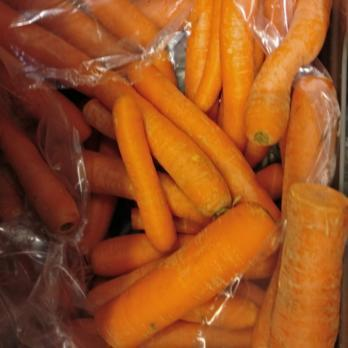Carrot: (1, 6, 342, 344)
